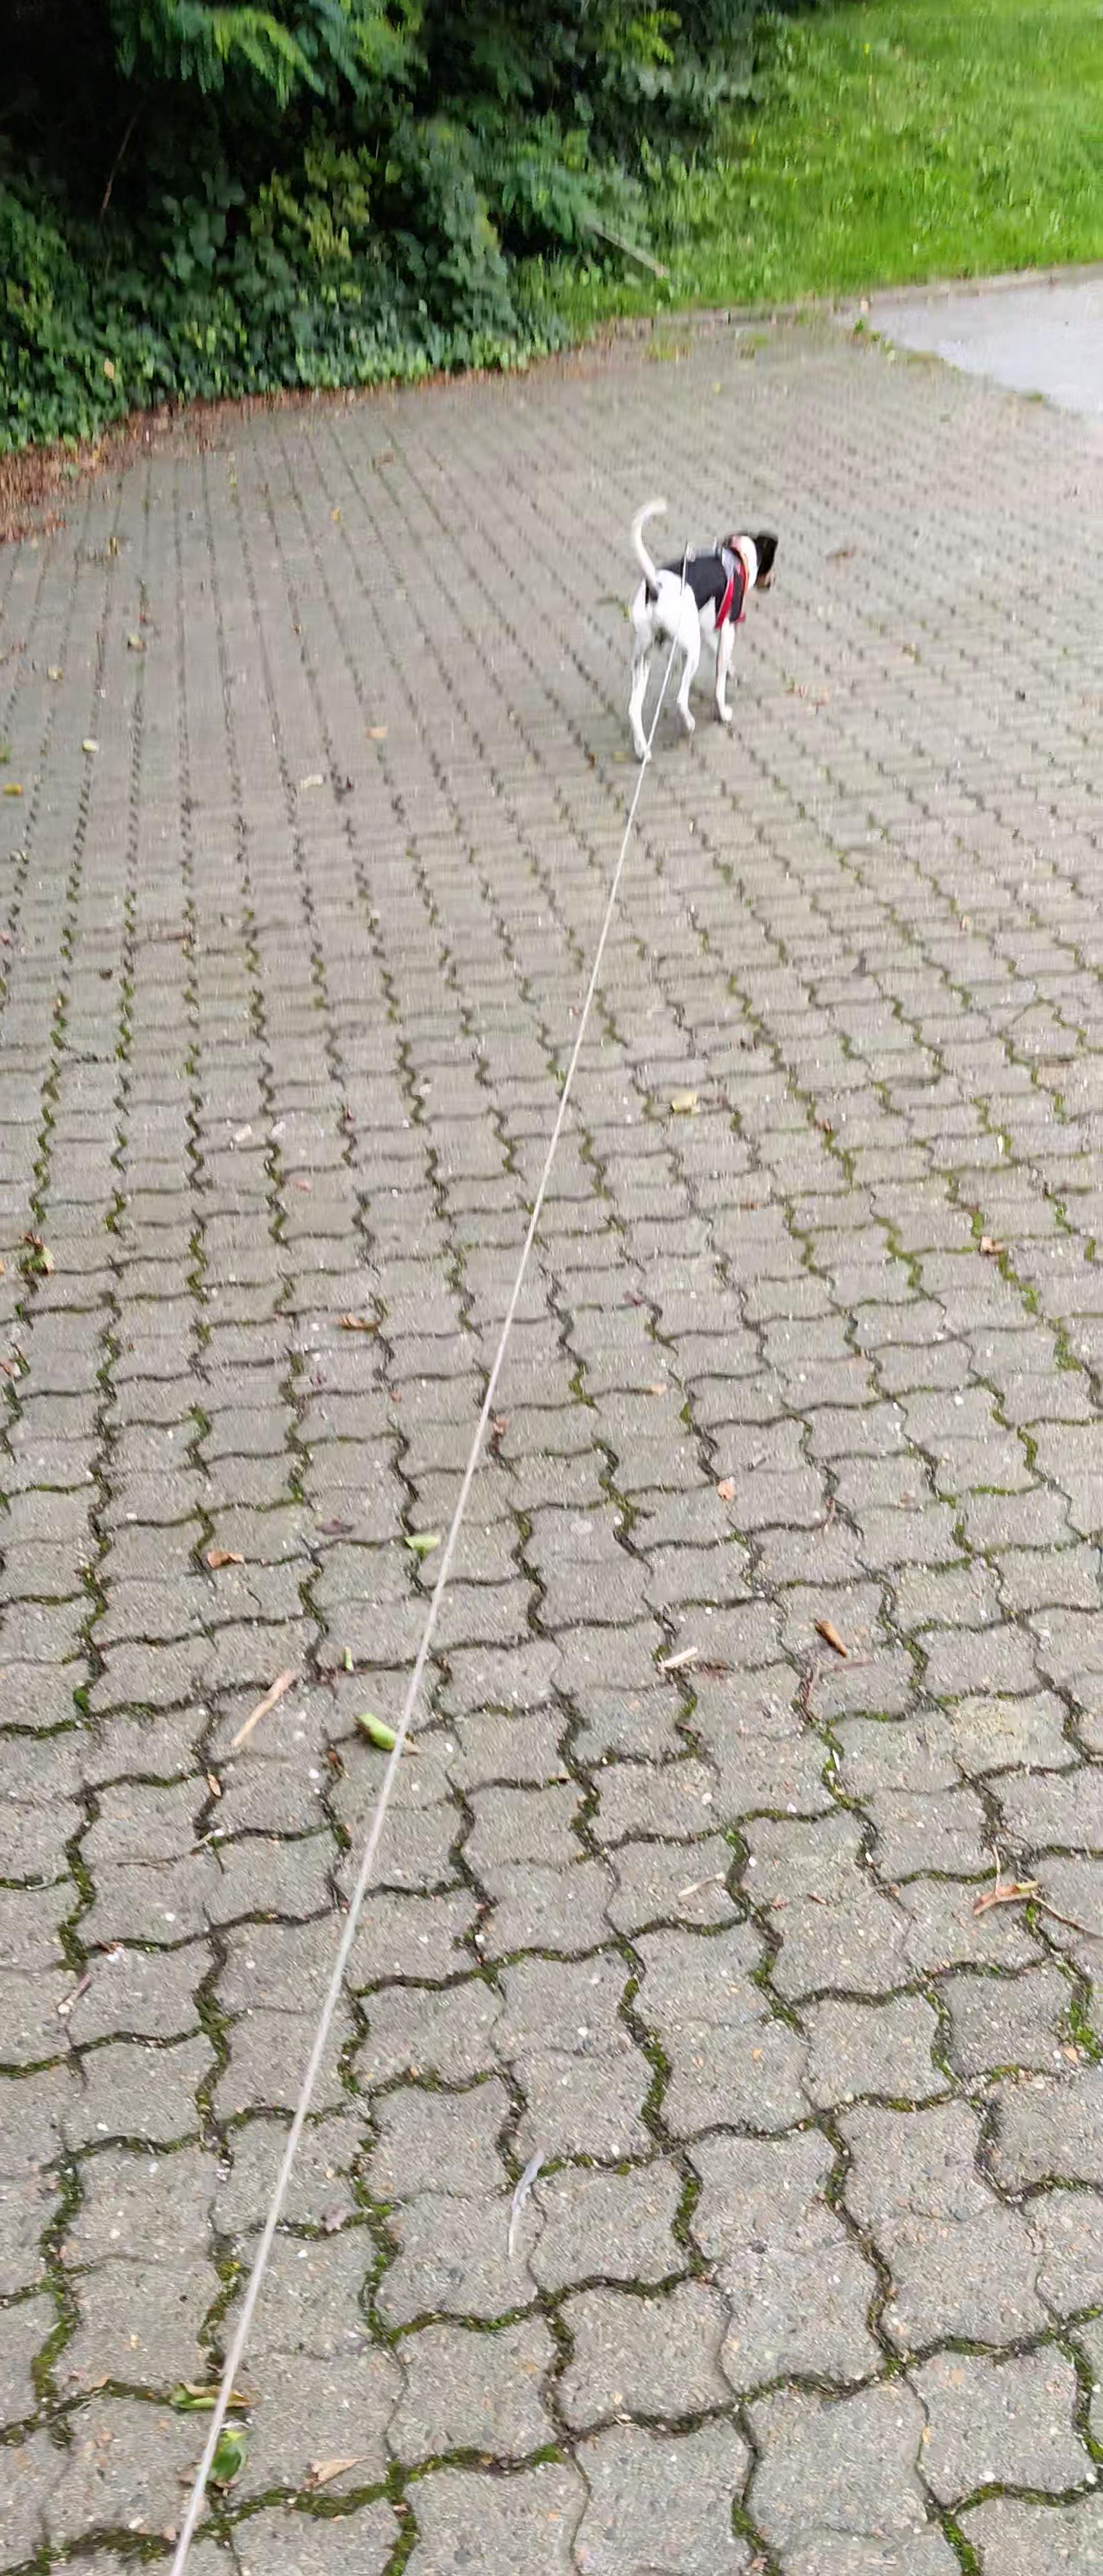Dog: (608, 490, 786, 772)
